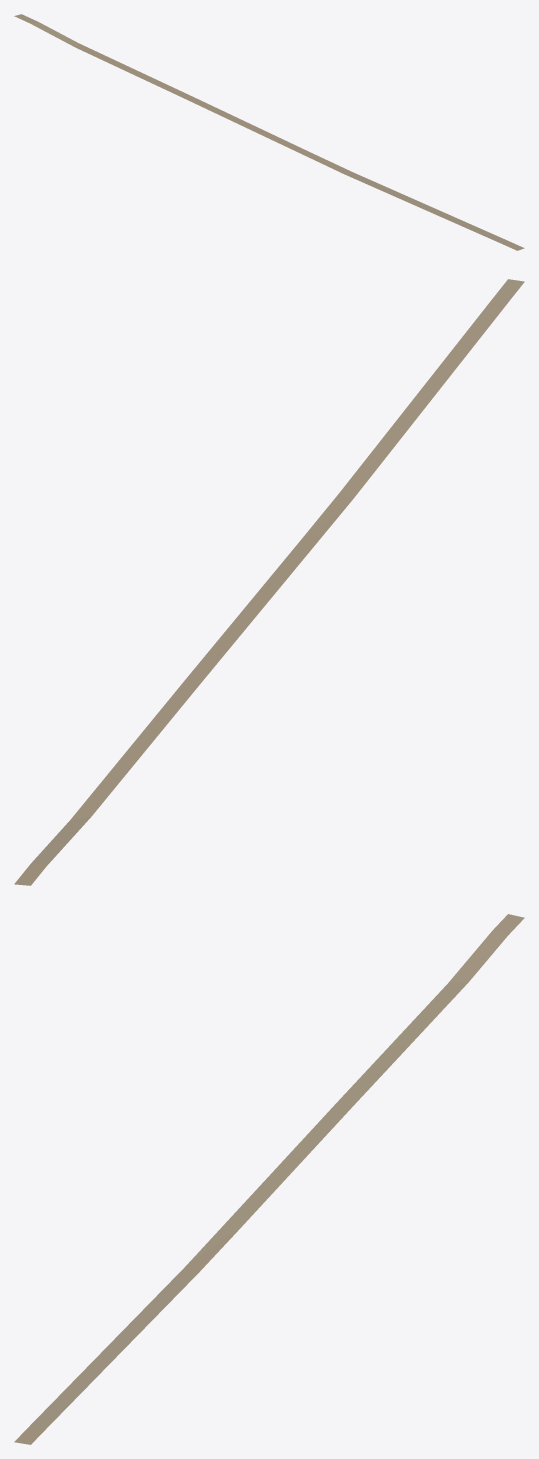
File: farm_-1_14_track.glb
The picture shows the model from 3 angles, top to bottom: view 1: azimuth 30°, elevation 25°; view 2: azimuth 150°, elevation 25°; view 3: azimuth 330°, elevation 25°; orthographic projection. The views are drawn at different scales.
Visible parts, largest first — view 1: geometry_0; view 2: geometry_0; view 3: geometry_0.
Part boxes in pixels (left/top/right/bottom): geometry_0: left=14, top=14, right=524, bottom=250; geometry_0: left=14, top=279, right=524, bottom=885; geometry_0: left=14, top=914, right=524, bottom=1444.
Bounding box in the file's own units: 47.4 × 7.91 × 257.
